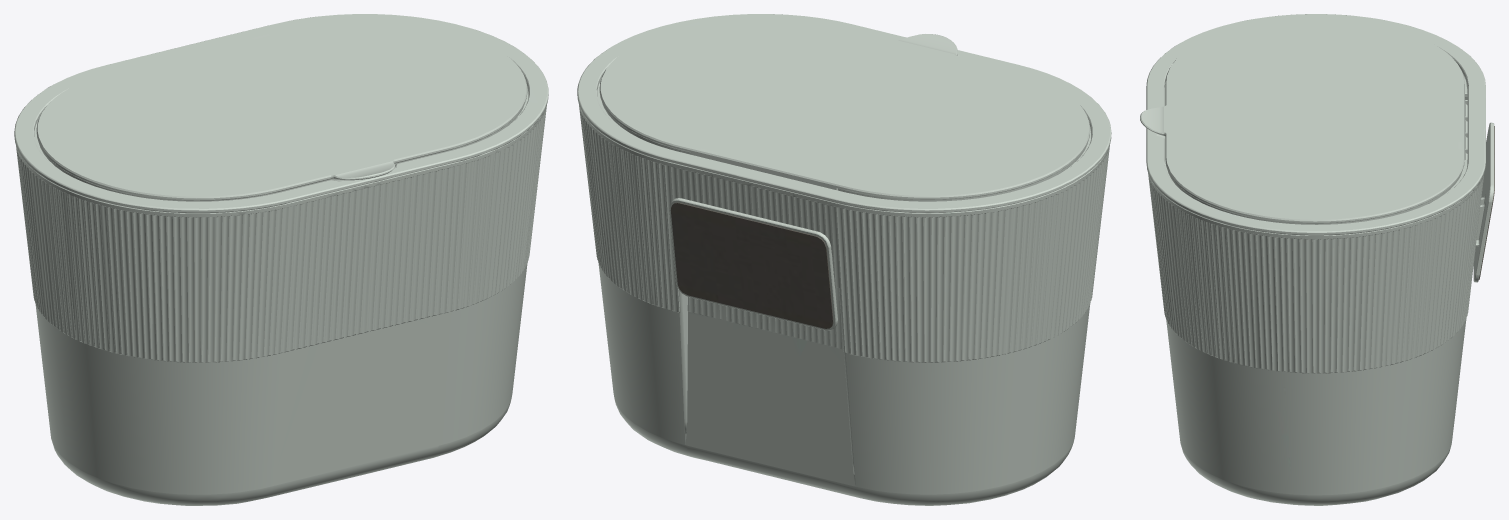
The model's file is kinnasjo_kosz_na_odpady_00591856.glb.
3 views of the same model, side by side, from view 1: azimuth 30°, elevation 25°; view 2: azimuth 150°, elevation 25°; view 3: azimuth 270°, elevation 25° (orthographic). The views are drawn at different scales.
Parts seen in each view (by area): view 1: kinnasjo_kosz_na_odpady_00591856; view 2: kinnasjo_kosz_na_odpady_00591856; view 3: kinnasjo_kosz_na_odpady_00591856.
Part boxes in pixels (x1,y1,x2,y2): kinnasjo_kosz_na_odpady_00591856: (14, 14, 548, 505); kinnasjo_kosz_na_odpady_00591856: (577, 14, 1111, 505); kinnasjo_kosz_na_odpady_00591856: (1140, 14, 1494, 505).
Size of the model in its own units: 0.2417 by 0.1564 by 0.1659.
2 materials, 2 textured.
